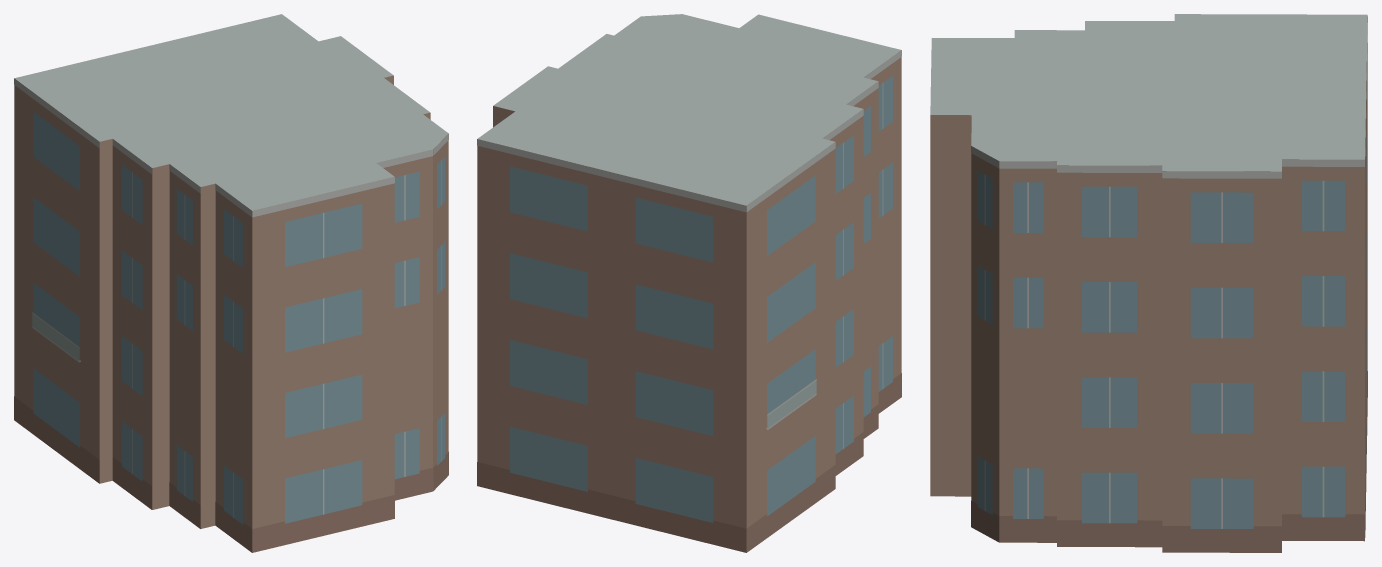
The model's file is survey-upis-32618713.glb.
The picture shows the model from 3 angles, left to right: view 1: azimuth 30°, elevation 25°; view 2: azimuth 150°, elevation 25°; view 3: azimuth 270°, elevation 25°; orthographic projection. The views are drawn at different scales.
Visible parts, largest first — view 1: survey-upis-32618713.tmp; view 2: survey-upis-32618713.tmp; view 3: survey-upis-32618713.tmp.
Boxes of the visible parts, bbox=[...] form: survey-upis-32618713.tmp: bbox=[14, 14, 448, 552]; survey-upis-32618713.tmp: bbox=[477, 14, 901, 552]; survey-upis-32618713.tmp: bbox=[930, 14, 1367, 552].
Bounding box in the file's own units: 11.28 × 12.7 × 13.21.
